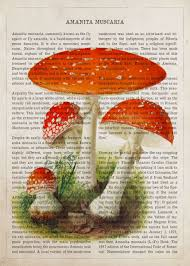Amanita muscaria: (23, 37, 168, 185), (100, 98, 174, 219), (38, 100, 85, 158), (26, 167, 65, 219)
